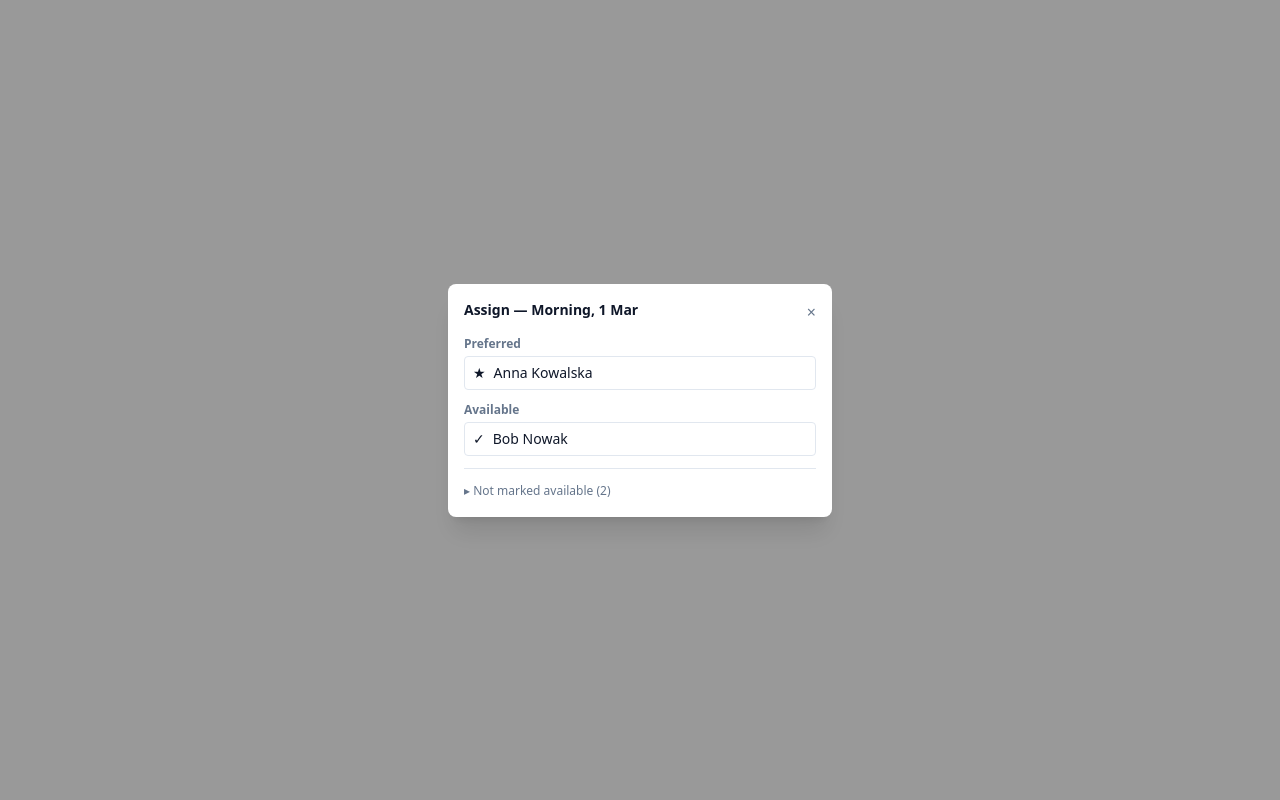
AssignPickerDialog › collapses the unavailable section by default, with a warning once expanded
expect the text "Carla Zielinska" is not shown: met
Click the button "▸ Not marked available (2)" at (537,490), box [464,482,610,498]
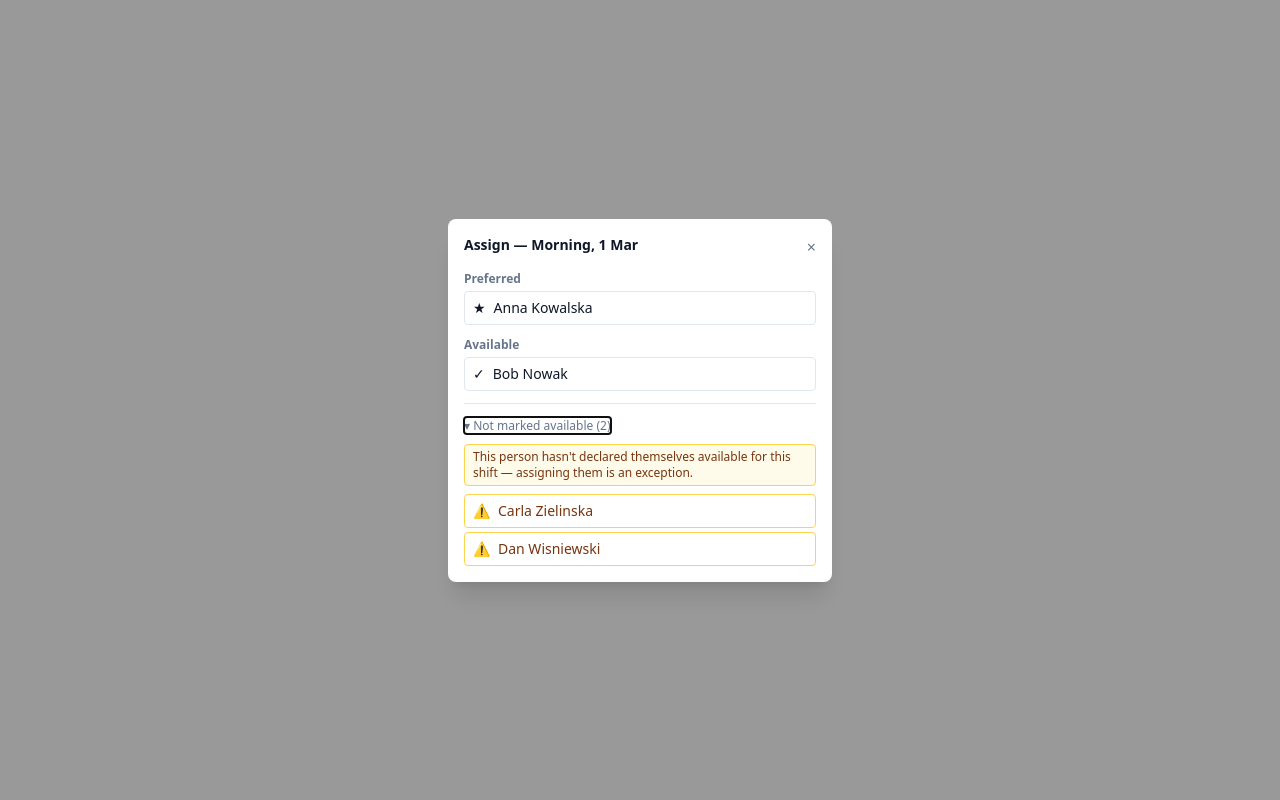
expect the text "Carla Zielinska" is shown: met, box [498,500,593,520]
expect the text "Dan Wisniewski" is shown: met, box [498,538,600,558]
expect the text "hasn't declared themselves available" is shown: met, box [473,448,791,480]
